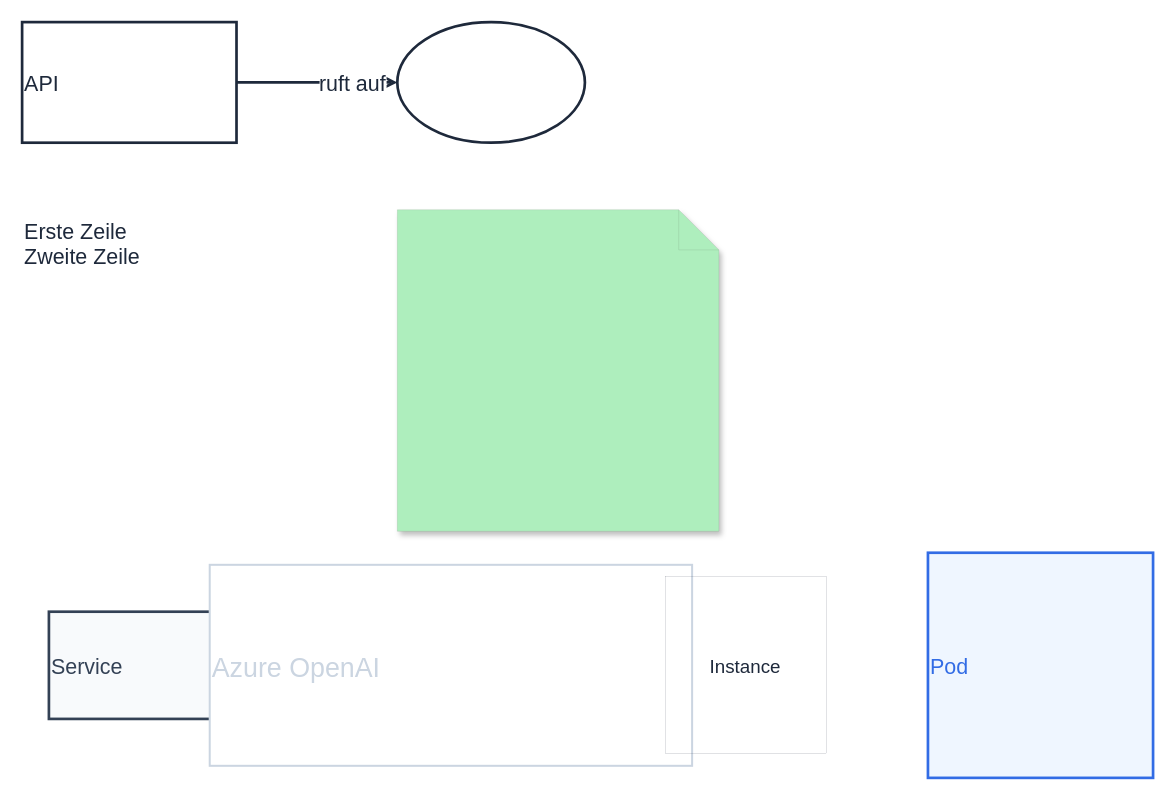
This 1175x800 diagram has some shape labels left out. Each missing label, with the centre of its shape:
"Notiz" goes at pixel 558 372.
"Queue" goes at pixel 490 81.
